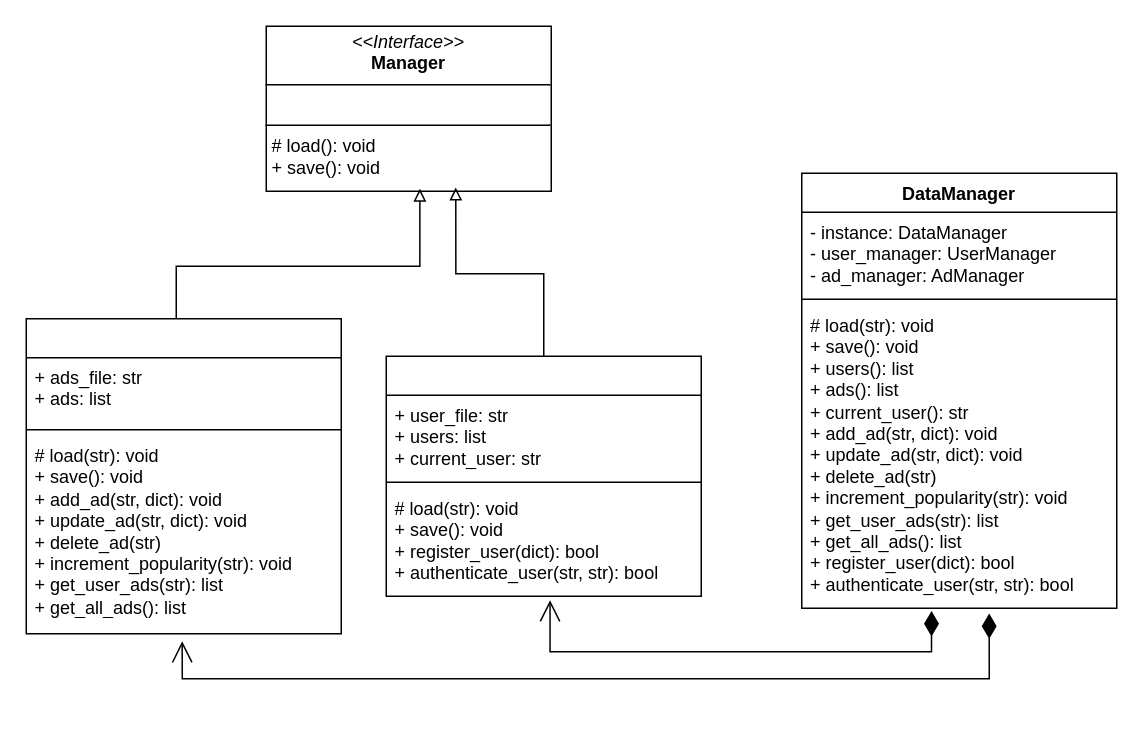
Image size: 1143x731. Some labels were removed from this diagram. The shapes that lost their labels are listed below. From the top down, each one's box as (x1, y1, x2, y2) in pixels, then its label:
(25, 317, 341, 634): AdManager
(385, 355, 701, 596): UserManager
